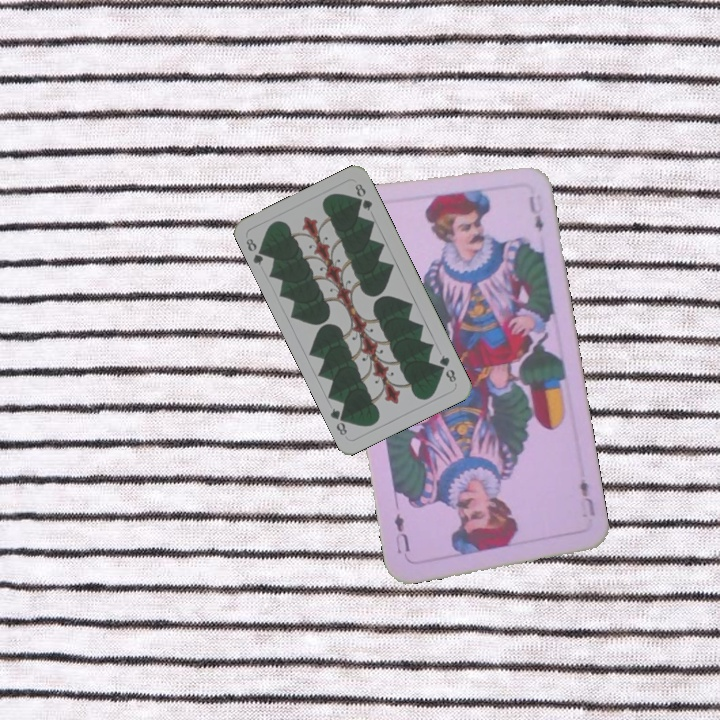EU: (576, 475, 598, 519)
G8: (242, 234, 269, 268), (435, 351, 459, 385)
